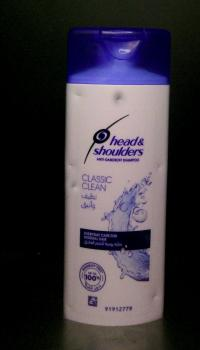dent_unacceptable: (110, 89, 131, 107), (66, 178, 82, 194), (149, 290, 161, 307), (154, 160, 166, 175), (72, 90, 86, 102), (67, 160, 79, 169)
